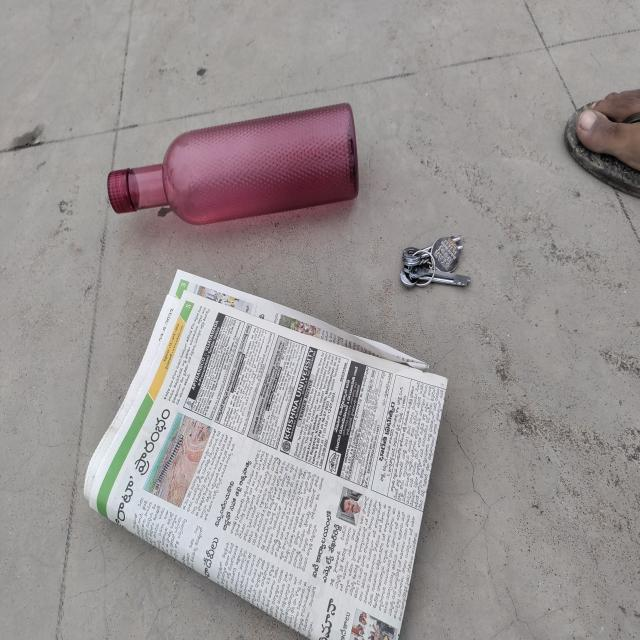metal: (401, 232, 471, 288)
paper: (88, 296, 448, 640)
plastic: (107, 102, 360, 225)
